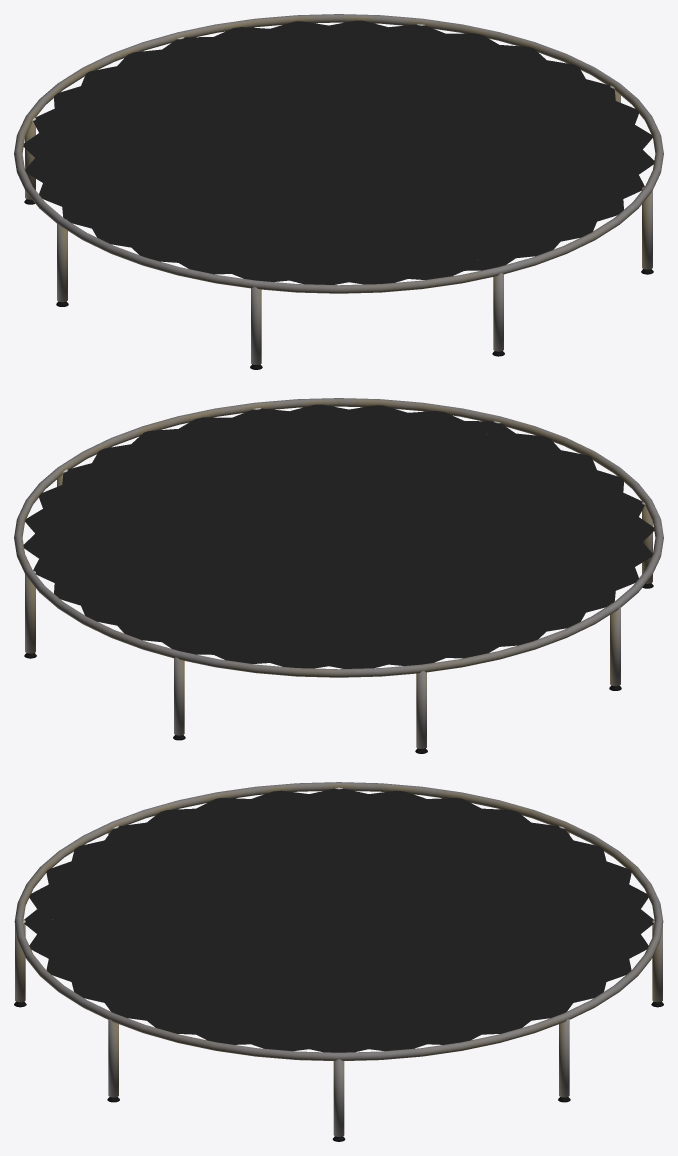
File: Trampolin Vertical Unity.fbx
3 renders of one model, top to bottom at view 1: azimuth 30°, elevation 25°; view 2: azimuth 150°, elevation 25°; view 3: azimuth 270°, elevation 25°, orthographic.
Parts seen in each view (by area): view 1: Circle.001; view 2: Circle.001; view 3: Circle.001.
Part boxes in pixels (x1=…): Circle.001: x1=14, y1=14, x2=663, y2=369; Circle.001: x1=14, y1=398, x2=663, y2=753; Circle.001: x1=14, y1=782, x2=663, y2=1141.
Bounding box in the file's own units: 223 × 32.87 × 223.
